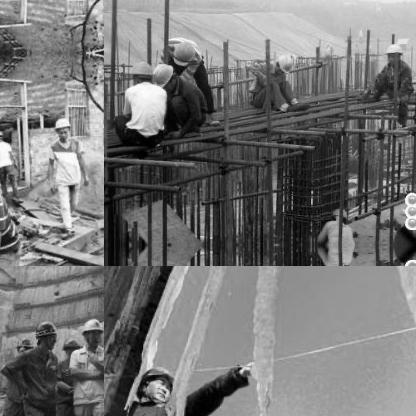Helmet: (138, 360, 176, 402), (32, 316, 58, 350), (170, 38, 198, 66), (76, 314, 102, 344), (128, 57, 152, 85), (150, 62, 174, 86), (382, 40, 404, 64), (62, 334, 82, 360), (52, 112, 70, 140), (14, 335, 34, 360), (271, 51, 291, 74), (328, 204, 348, 222), (0, 127, 3, 142)
